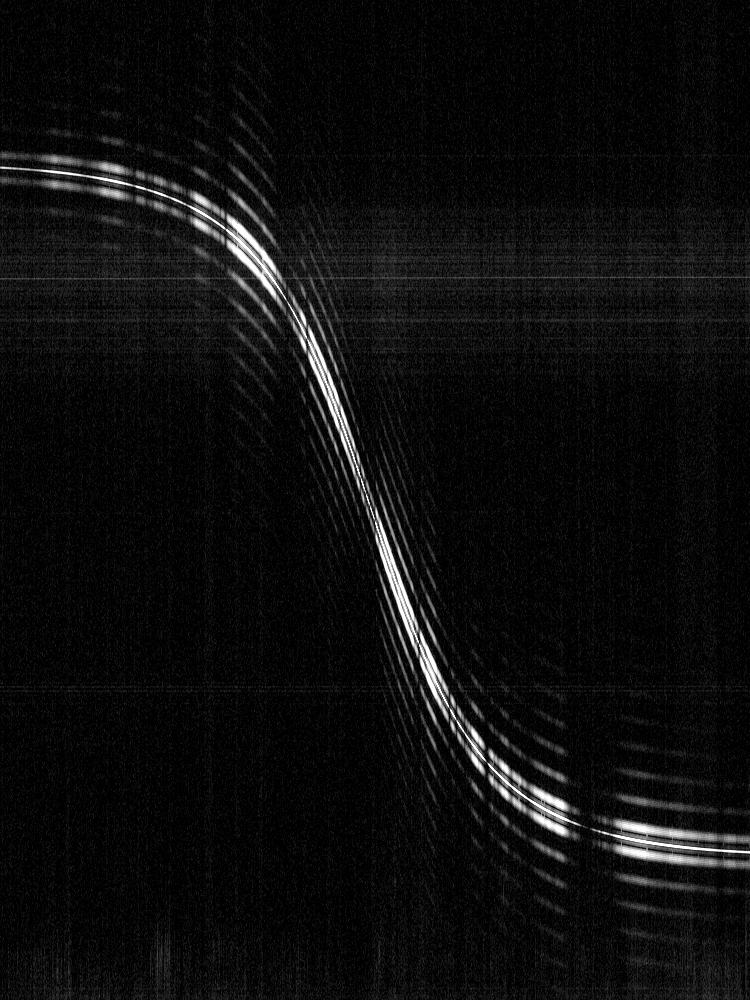signal: (0, 0, 749, 999)
